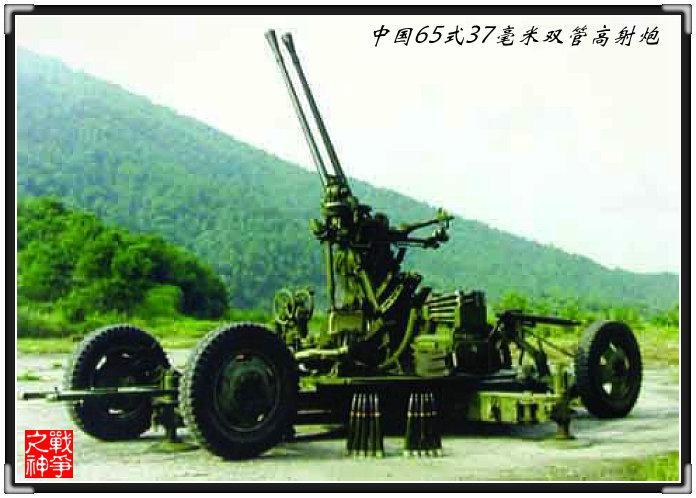MIL_SPG: (23, 31, 578, 459), (553, 322, 642, 423)
